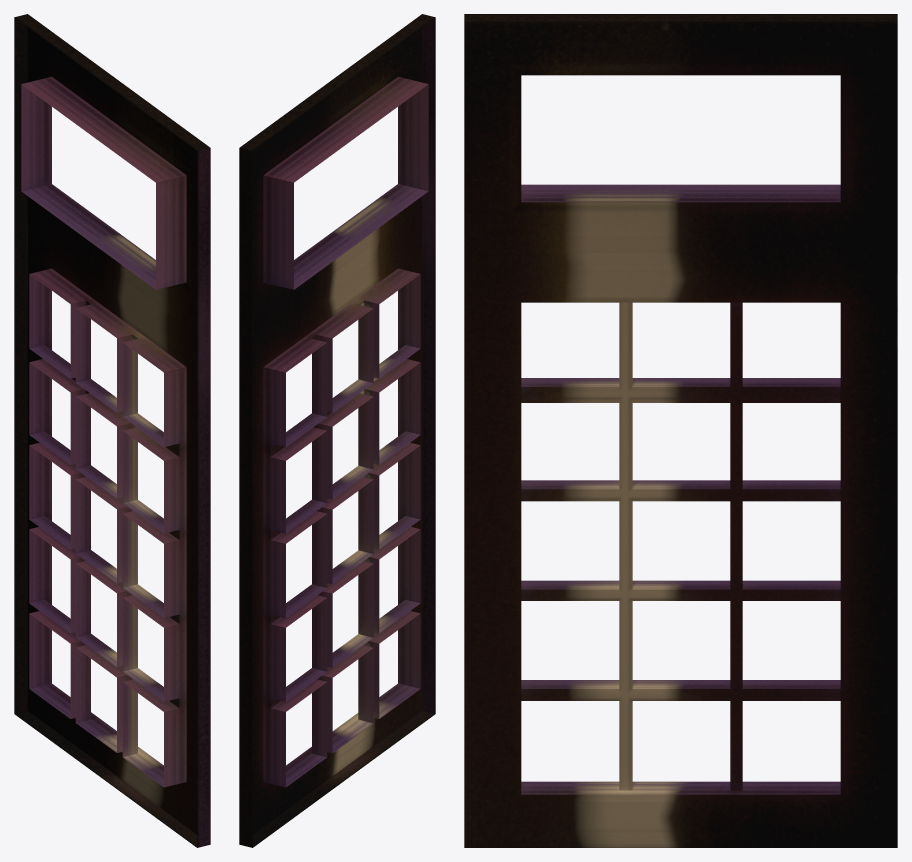
File: window2.obj
The picture shows the model from 3 angles, left to right: view 1: azimuth 30°, elevation 25°; view 2: azimuth 150°, elevation 25°; view 3: azimuth 270°, elevation 25°; orthographic projection. The views are drawn at different scales.
Parts seen in each view (by area): view 1: window2Baked BedroomBakedTriExport; view 2: window2Baked BedroomBakedTriExport; view 3: window2Baked BedroomBakedTriExport.
Part boxes in pixels (x1,y1,x2,y2): window2Baked BedroomBakedTriExport: (14,14,210,847); window2Baked BedroomBakedTriExport: (239,14,435,847); window2Baked BedroomBakedTriExport: (464,14,897,847).
Size of the model in its own units: 0.1089 by 2.37 by 1.13.
